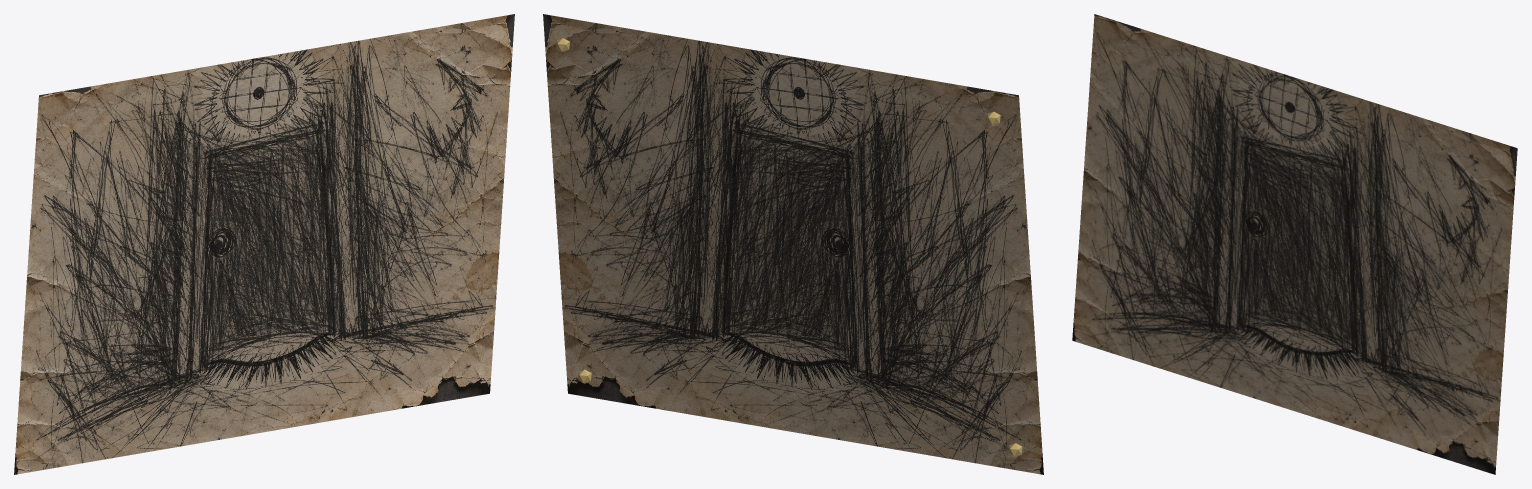
Rendered from room_child_room__画·红光睡着.gltf.
3 renders of one model, left to right at view 1: azimuth 30°, elevation 25°; view 2: azimuth 150°, elevation 25°; view 3: azimuth 330°, elevation 25°, orthographic. The views are drawn at different scales.
Visible parts, largest first — view 1: 艾瑞斯的房间·画·红光睡着; view 2: 艾瑞斯的房间·画·红光睡着; view 3: 艾瑞斯的房间·画·红光睡着.
Part boxes in pixels (x1,y1,x2,y2): 艾瑞斯的房间·画·红光睡着: (14,14,514,474); 艾瑞斯的房间·画·红光睡着: (543,14,1043,474); 艾瑞斯的房间·画·红光睡着: (1072,14,1517,474).
Size of the model in its own units: 0.441 by 0.3435 by 0.0116.
2 materials, 1 textured.
